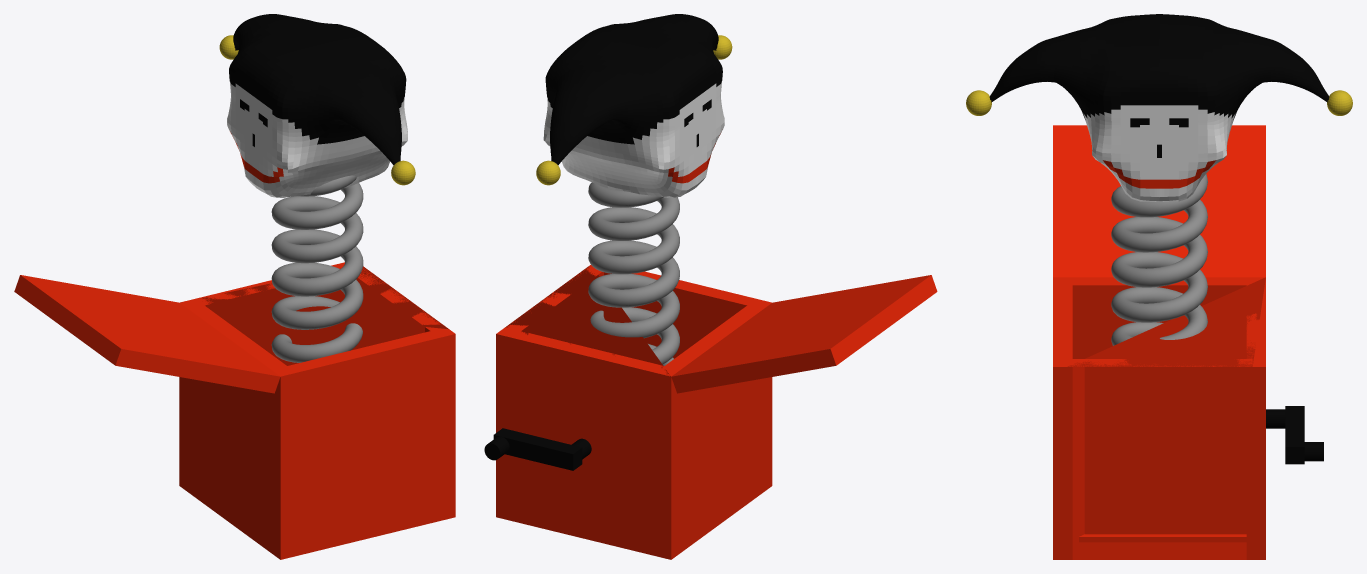
File: jackinbox.fbx
3 views of the same model, side by side, from view 1: azimuth 30°, elevation 25°; view 2: azimuth 150°, elevation 25°; view 3: azimuth 270°, elevation 25° (orthographic). The views are drawn at different scales.
Visible parts, largest first — view 1: Cube, Cube.001, Circle; view 2: Cube, Cube.001, Circle, Cylinder.001; view 3: Cube, Cube.001, Circle, Cylinder.001.
Boxes of the visible parts, x1,y1,x2,y2 form: Cube: [14, 262, 455, 559]; Cube.001: [219, 14, 415, 197]; Circle: [271, 175, 363, 362]; Cube: [496, 265, 937, 559]; Cube.001: [536, 14, 732, 197]; Circle: [588, 182, 679, 365]; Cylinder.001: [484, 428, 591, 470]; Cube: [1053, 125, 1265, 559]; Cube.001: [966, 14, 1352, 201]; Circle: [1111, 174, 1207, 345]; Cylinder.001: [1266, 406, 1323, 464].
Bounding box in the file's own units: 2137 × 2738 × 2000.
